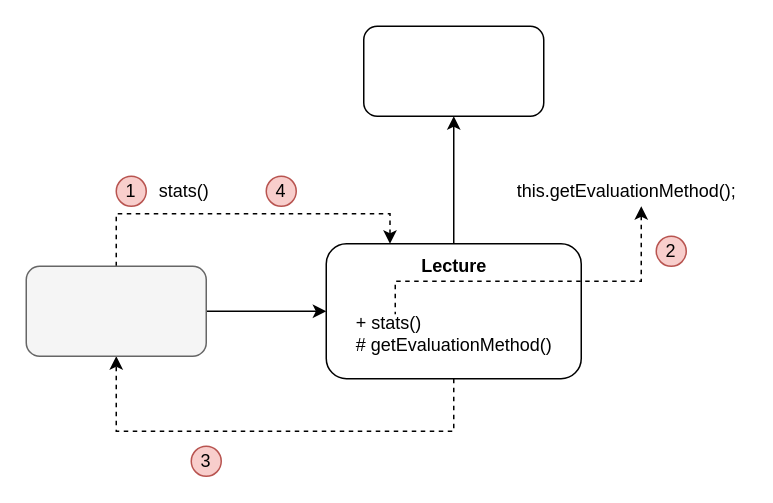
Some shapes in this 773 by 503 pixel diagram are drawn without their labels. Each missing label, with the centre of its shape:
"Object" belongs at (x=453, y=70).
"self" belongs at (x=115, y=310).
